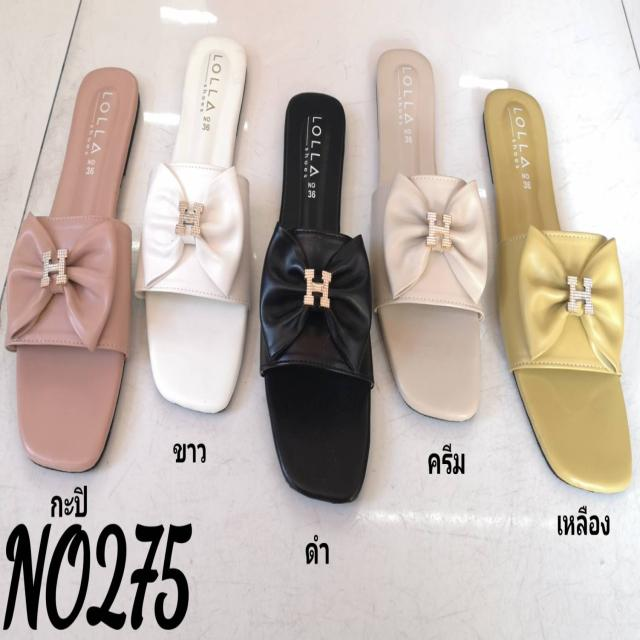black: (259, 90, 370, 503)
cream: (374, 44, 484, 427)
kapi: (18, 68, 140, 475)
white: (148, 39, 253, 412)
yellow: (486, 88, 634, 495)
